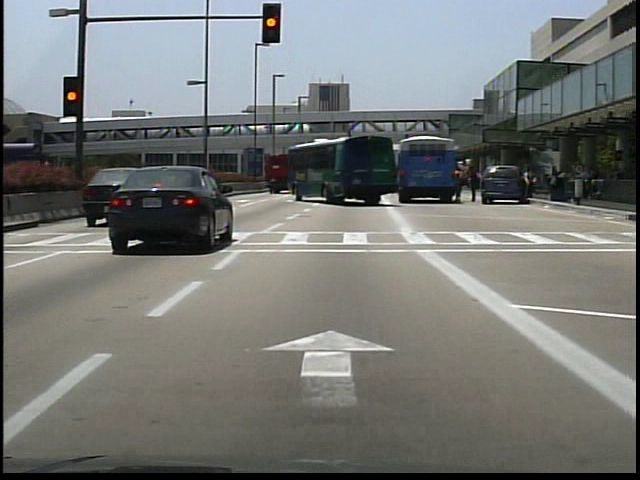person: (455, 163, 470, 203), (466, 161, 479, 203), (522, 168, 535, 205)
